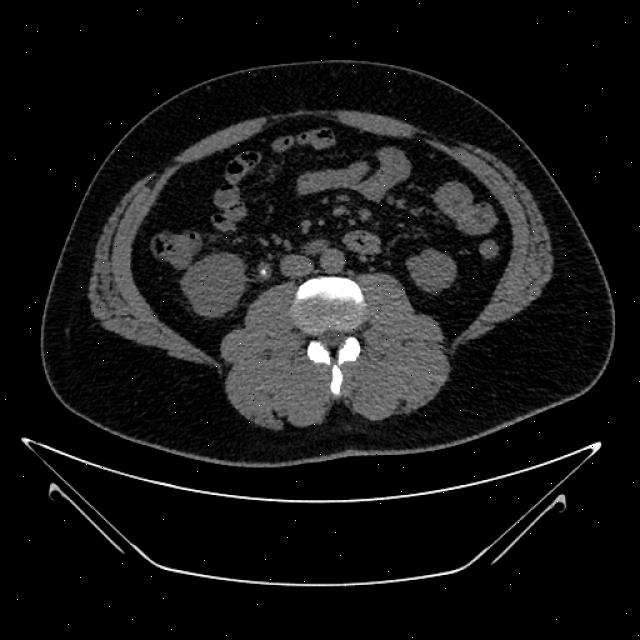kidneystone: (258, 264, 270, 276)
